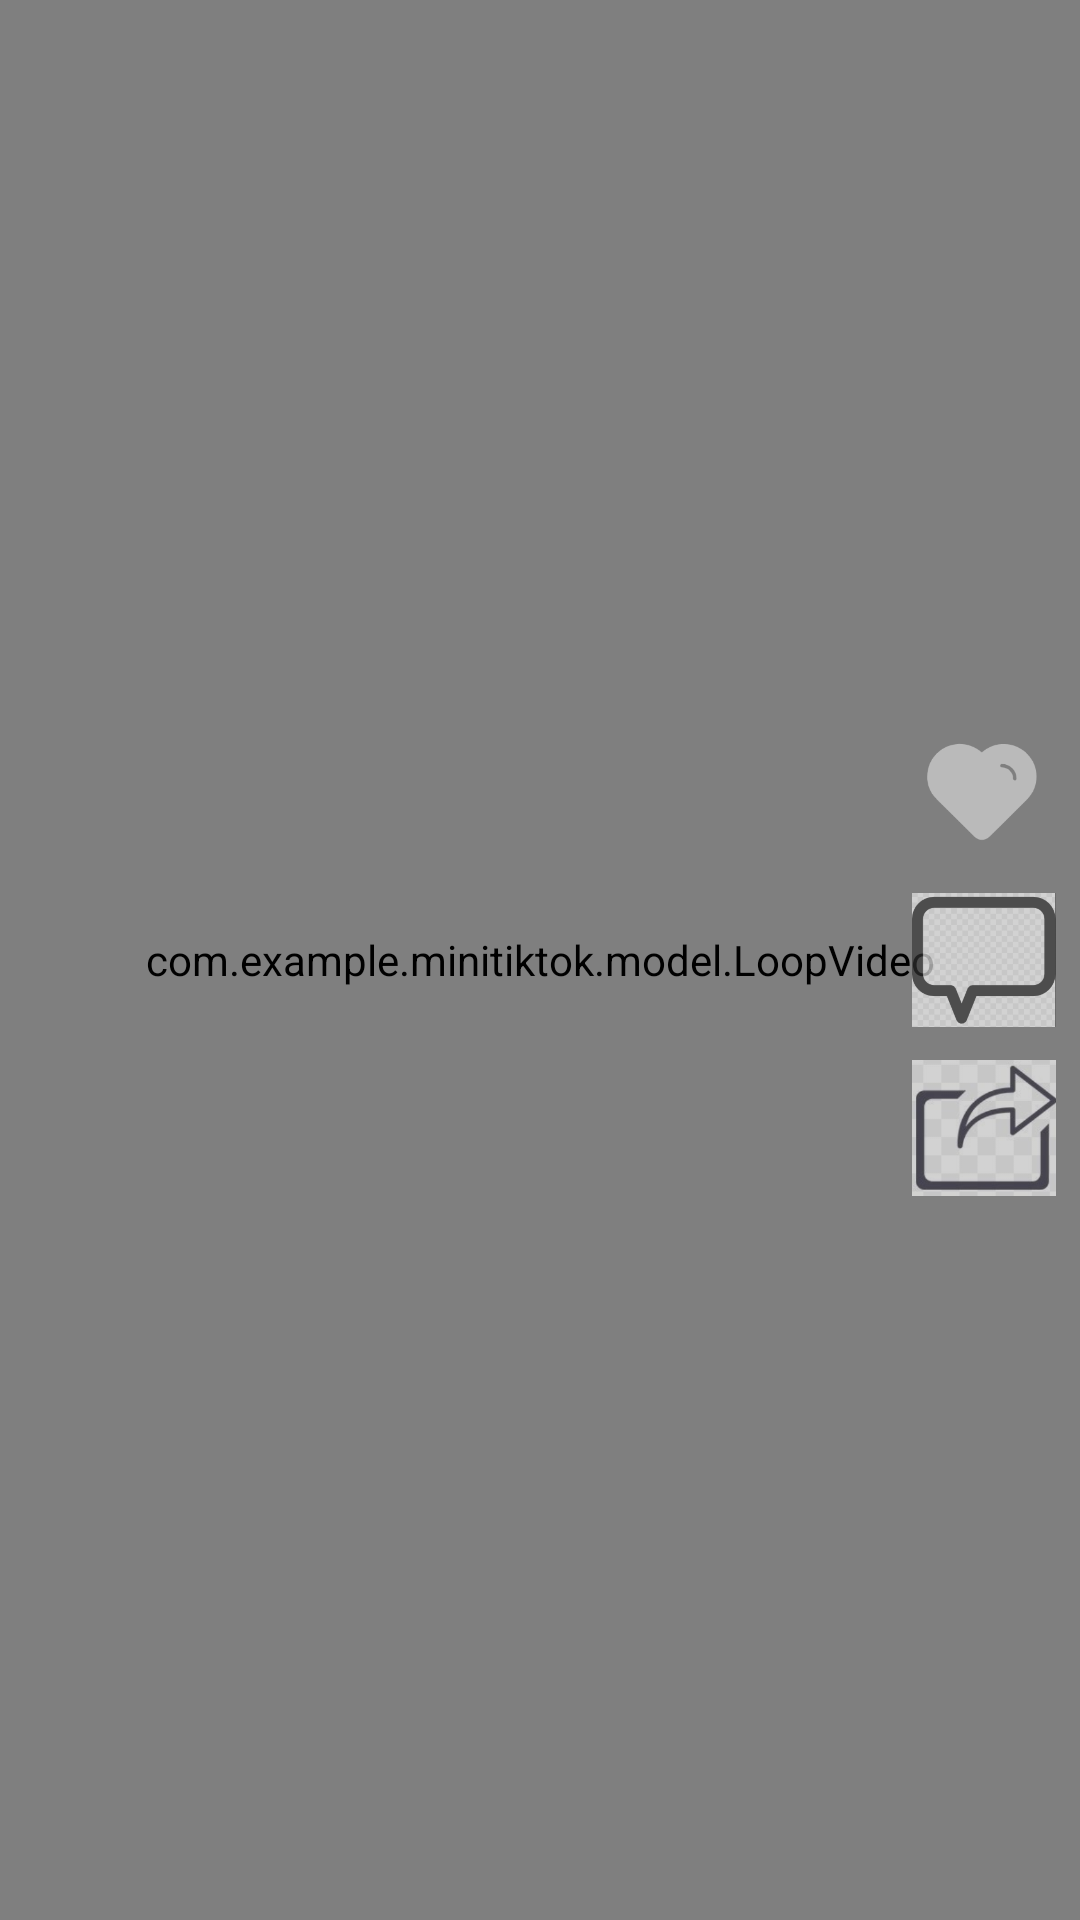

Locate icon controls on the screen. Image size 1080w x 1920h, boxes as (x1, y1, x2, y2).
comment: (912, 893, 1056, 1027)
like: (927, 744, 1037, 840)
share: (912, 1060, 1056, 1196)
